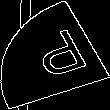P_SE: (20, 24, 90, 86)
